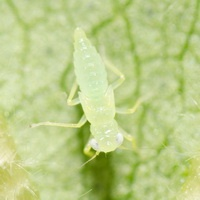insect: (31, 27, 131, 162)
